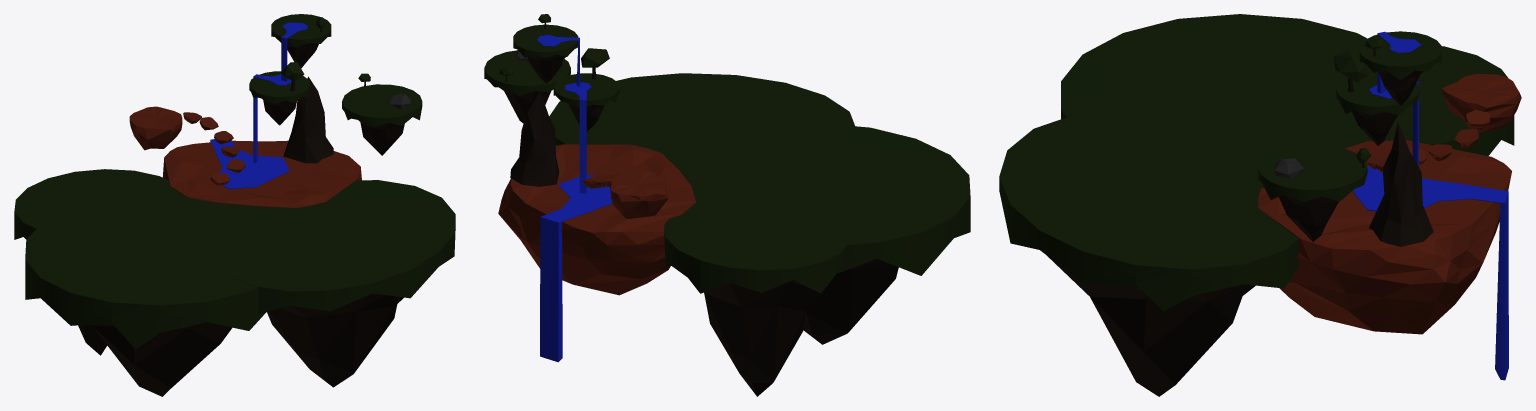
The model's file is Big islands.fbx.
3 renders of one model, left to right at view 1: azimuth 30°, elevation 25°; view 2: azimuth 150°, elevation 25°; view 3: azimuth 270°, elevation 25°, orthographic. The views are drawn at different scales.
Visible parts, largest first — view 1: Grass002, Grass003, GeoSphere5, ground003, Grass001, ground002, Grass.Grass02, Rock, Water.Water002, GeoSphere001, Grass, Grass.Grass01 (+6 smaller); view 2: Grass002, Grass003, GeoSphere5, Grass001, ground001, Water.Water002, ground002, Rock, GeoSphere001, Grass.Grass02, Grass, Grass.Grass01 (+6 smaller); view 3: Grass003, Grass002, GeoSphere5, ground003, Grass001, Grass.Grass02, Water.Water002, Rock, GeoSphere001, Grass, Grass.Grass01, ground.ground02 (+6 smaller).
Boxes of the visible parts, left/top/right/bottom form: Grass002: left=25, top=191, right=299, bottom=349; Grass003: left=211, top=180, right=455, bottom=313; GeoSphere5: left=162, top=140, right=361, bottom=208; ground003: left=267, top=293, right=403, bottom=387; Grass001: left=14, top=169, right=177, bottom=239; ground002: left=91, top=322, right=231, bottom=396; Grass.Grass02: left=342, top=84, right=422, bottom=127; Rock: left=283, top=76, right=333, bottom=163; Water.Water002: left=210, top=139, right=289, bottom=189; GeoSphere001: left=129, top=106, right=182, bottom=150; Grass: left=271, top=14, right=331, bottom=47; Grass.Grass01: left=249, top=71, right=310, bottom=103; Grass002: left=677, top=126, right=970, bottom=275; Grass003: left=549, top=73, right=856, bottom=168; GeoSphere5: left=498, top=144, right=695, bottom=295; Grass001: left=664, top=203, right=850, bottom=293; ground001: left=704, top=280, right=819, bottom=396; Water.Water002: left=540, top=174, right=612, bottom=362; ground002: left=803, top=258, right=898, bottom=344; Rock: left=510, top=90, right=559, bottom=186; GeoSphere001: left=610, top=171, right=668, bottom=218; Grass.Grass02: left=484, top=50, right=570, bottom=95; Grass: left=513, top=24, right=578, bottom=57; Grass.Grass01: left=553, top=73, right=619, bottom=107; Grass003: left=999, top=109, right=1299, bottom=311; Grass002: left=1061, top=14, right=1419, bottom=176; GeoSphere5: left=1258, top=140, right=1511, bottom=334; ground003: left=1047, top=256, right=1246, bottom=396; Grass001: left=1313, top=46, right=1514, bottom=155; Grass.Grass02: left=1258, top=144, right=1367, bottom=202; Water.Water002: left=1352, top=166, right=1508, bottom=380; Rock: left=1369, top=122, right=1433, bottom=246; GeoSphere001: left=1442, top=74, right=1521, bottom=132; Grass: left=1359, top=31, right=1441, bottom=80; Grass.Grass01: left=1336, top=71, right=1419, bottom=115; ground.ground02: left=1279, top=194, right=1338, bottom=241.
Bounding box in the file's own units: 1385 × 970 × 1140.
